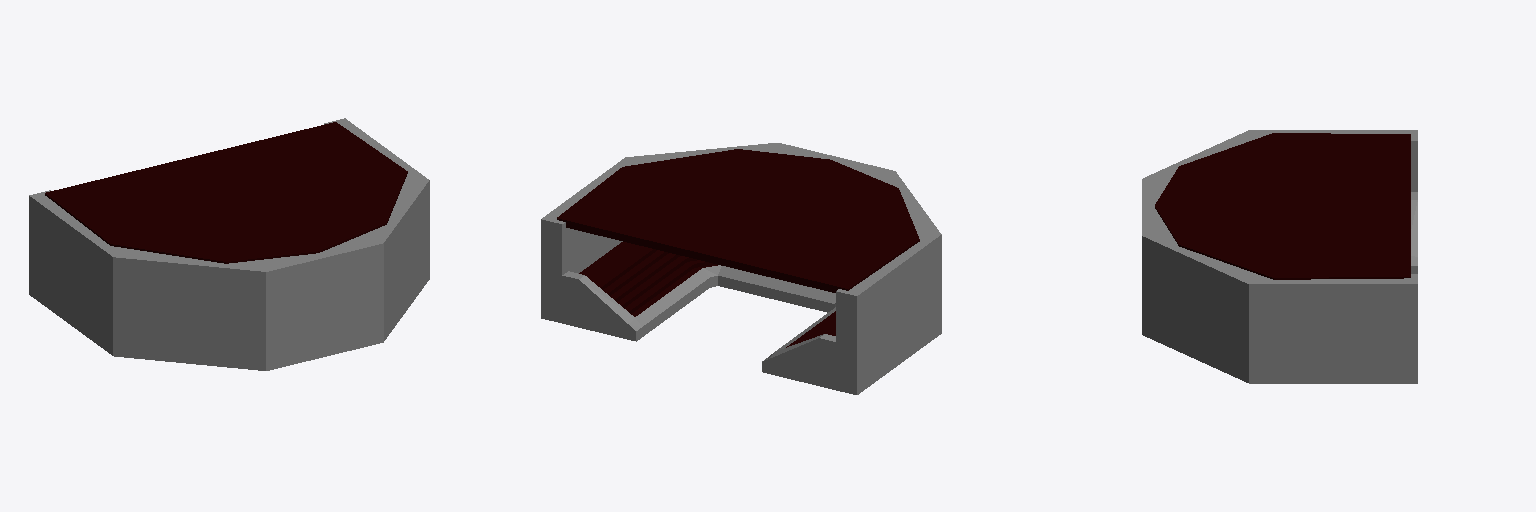
The model's file is StadiumSits4.obj.
3 renders of one model, left to right at view 1: azimuth 30°, elevation 25°; view 2: azimuth 150°, elevation 25°; view 3: azimuth 270°, elevation 25°, orthographic.
Parts seen in each view (by area): view 1: StadiumSits4_Cube.001; view 2: StadiumSits4_Cube.001; view 3: StadiumSits4_Cube.001.
Boxes of the visible parts, x1,y1,x2,y2 form: StadiumSits4_Cube.001: [29, 118, 429, 370]; StadiumSits4_Cube.001: [541, 143, 941, 394]; StadiumSits4_Cube.001: [1142, 130, 1417, 383].
Size of the model in its own units: 50.04 by 15.27 by 37.8.